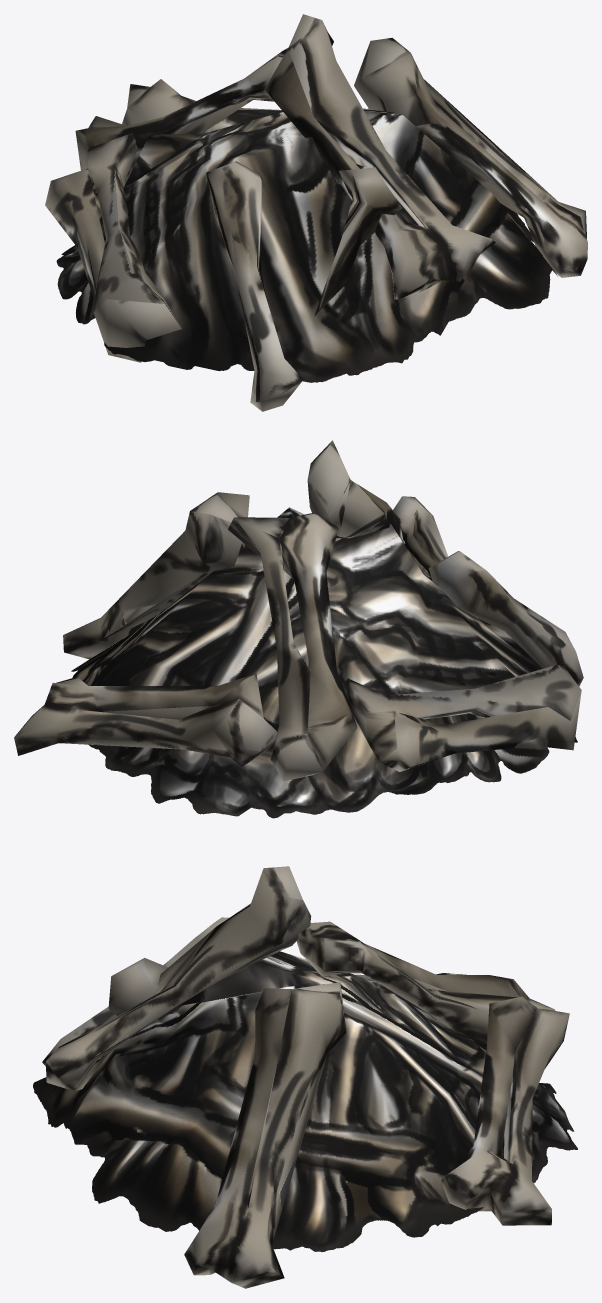
File: BRK_BonePile.FBX
The picture shows the model from 3 angles, top to bottom: view 1: azimuth 30°, elevation 25°; view 2: azimuth 150°, elevation 25°; view 3: azimuth 270°, elevation 25°; orthographic projection. The views are drawn at different scales.
Visible parts, largest first — view 1: BRK_BonePile; view 2: BRK_BonePile; view 3: BRK_BonePile.
Part boxes in pixels (<box>): BRK_BonePile: <box>45,14,587,411</box>; BRK_BonePile: <box>14,440,583,818</box>; BRK_BonePile: <box>33,866,577,1288</box>.
Bounding box in the file's own units: 165 × 88.11 × 153.
Materials: 1 (1 with a texture image).
